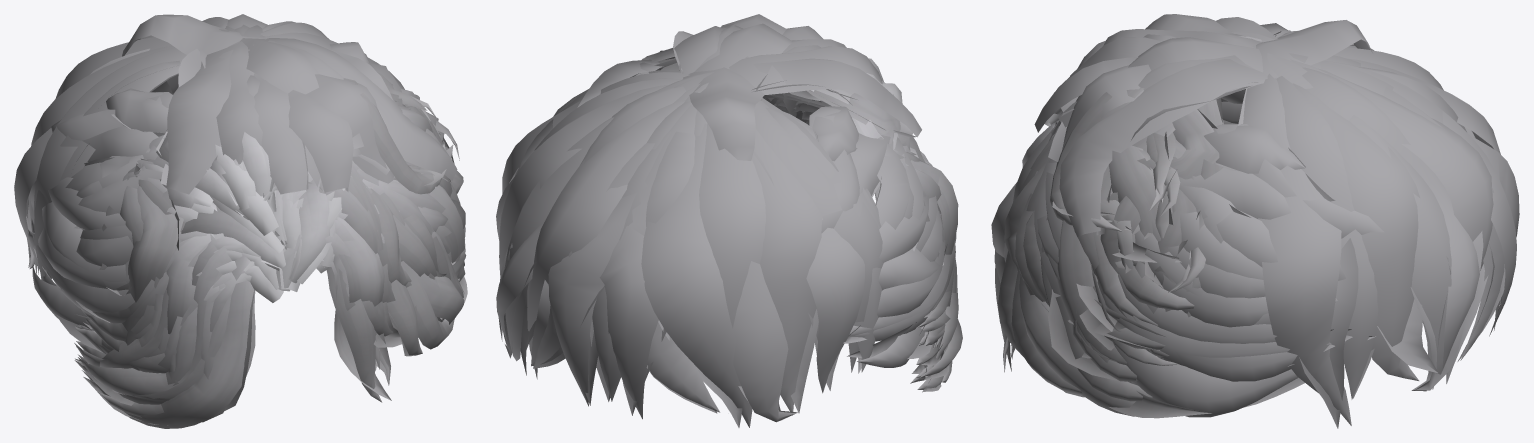
File: vroid_hair_c11v7p.glb
The picture shows the model from 3 angles, left to right: view 1: azimuth 30°, elevation 25°; view 2: azimuth 150°, elevation 25°; view 3: azimuth 270°, elevation 25°; orthographic projection. The views are drawn at different scales.
Visible parts, largest first — view 1: hair; view 2: hair; view 3: hair.
Part boxes in pixels (box(x1,y1,x2,y2)): hair: box(14, 14, 467, 428); hair: box(496, 14, 962, 427); hair: box(991, 14, 1519, 428).
Bounding box in the file's own units: 0.2226 × 0.1748 × 0.2427.
Materials: 2 (2 with a texture image).
